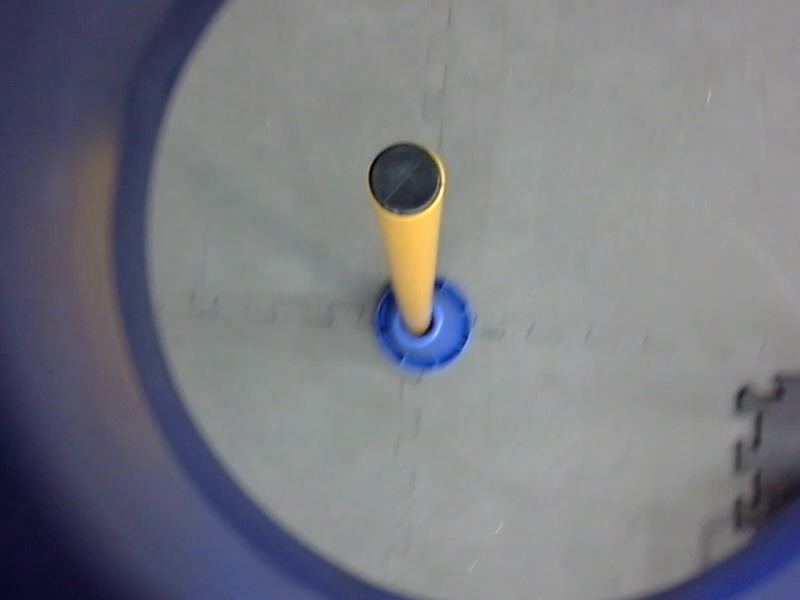tip: (357, 134, 454, 227)
